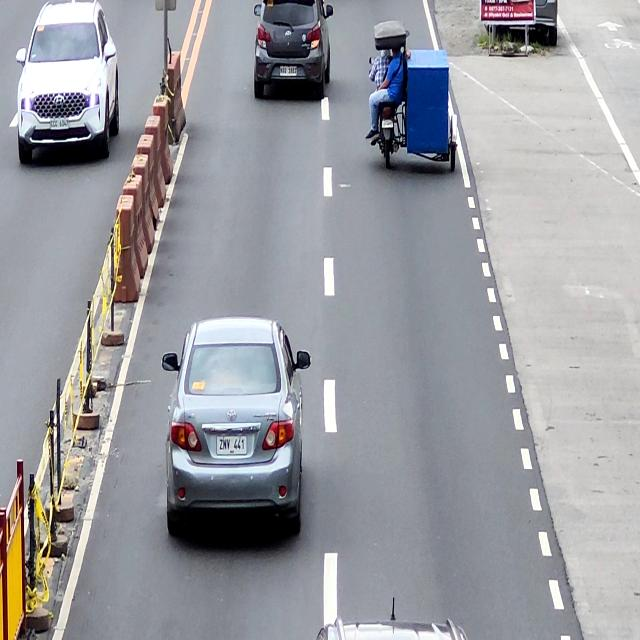Car: (163, 317, 311, 541), (252, 0, 334, 100)
License-Plate: (216, 436, 247, 457), (279, 65, 297, 78), (382, 120, 394, 130)
Tricycle: (369, 19, 459, 172)
